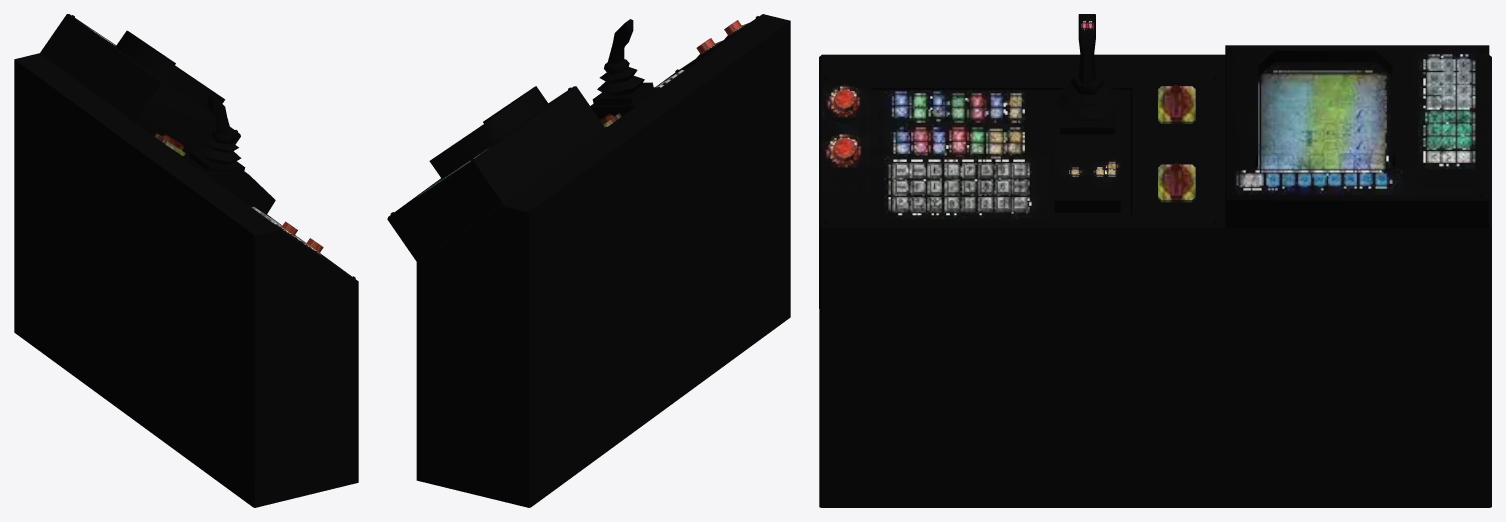
The model's file is consolepanelloadingbay.glb.
3 views of the same model, side by side, from view 1: azimuth 30°, elevation 25°; view 2: azimuth 150°, elevation 25°; view 3: azimuth 270°, elevation 25° (orthographic). The views are drawn at different scales.
Visible parts, largest first — view 1: 0_ConsolePanelLoadingBay; view 2: 0_ConsolePanelLoadingBay; view 3: 0_ConsolePanelLoadingBay.
Boxes of the visible parts, x1,y1,x2,y2 form: 0_ConsolePanelLoadingBay: (14, 14, 358, 507); 0_ConsolePanelLoadingBay: (387, 14, 790, 507); 0_ConsolePanelLoadingBay: (819, 14, 1491, 507).
Bounding box in the file's own units: 0.5135 × 1.22 × 1.62.
1 material, 1 textured.
